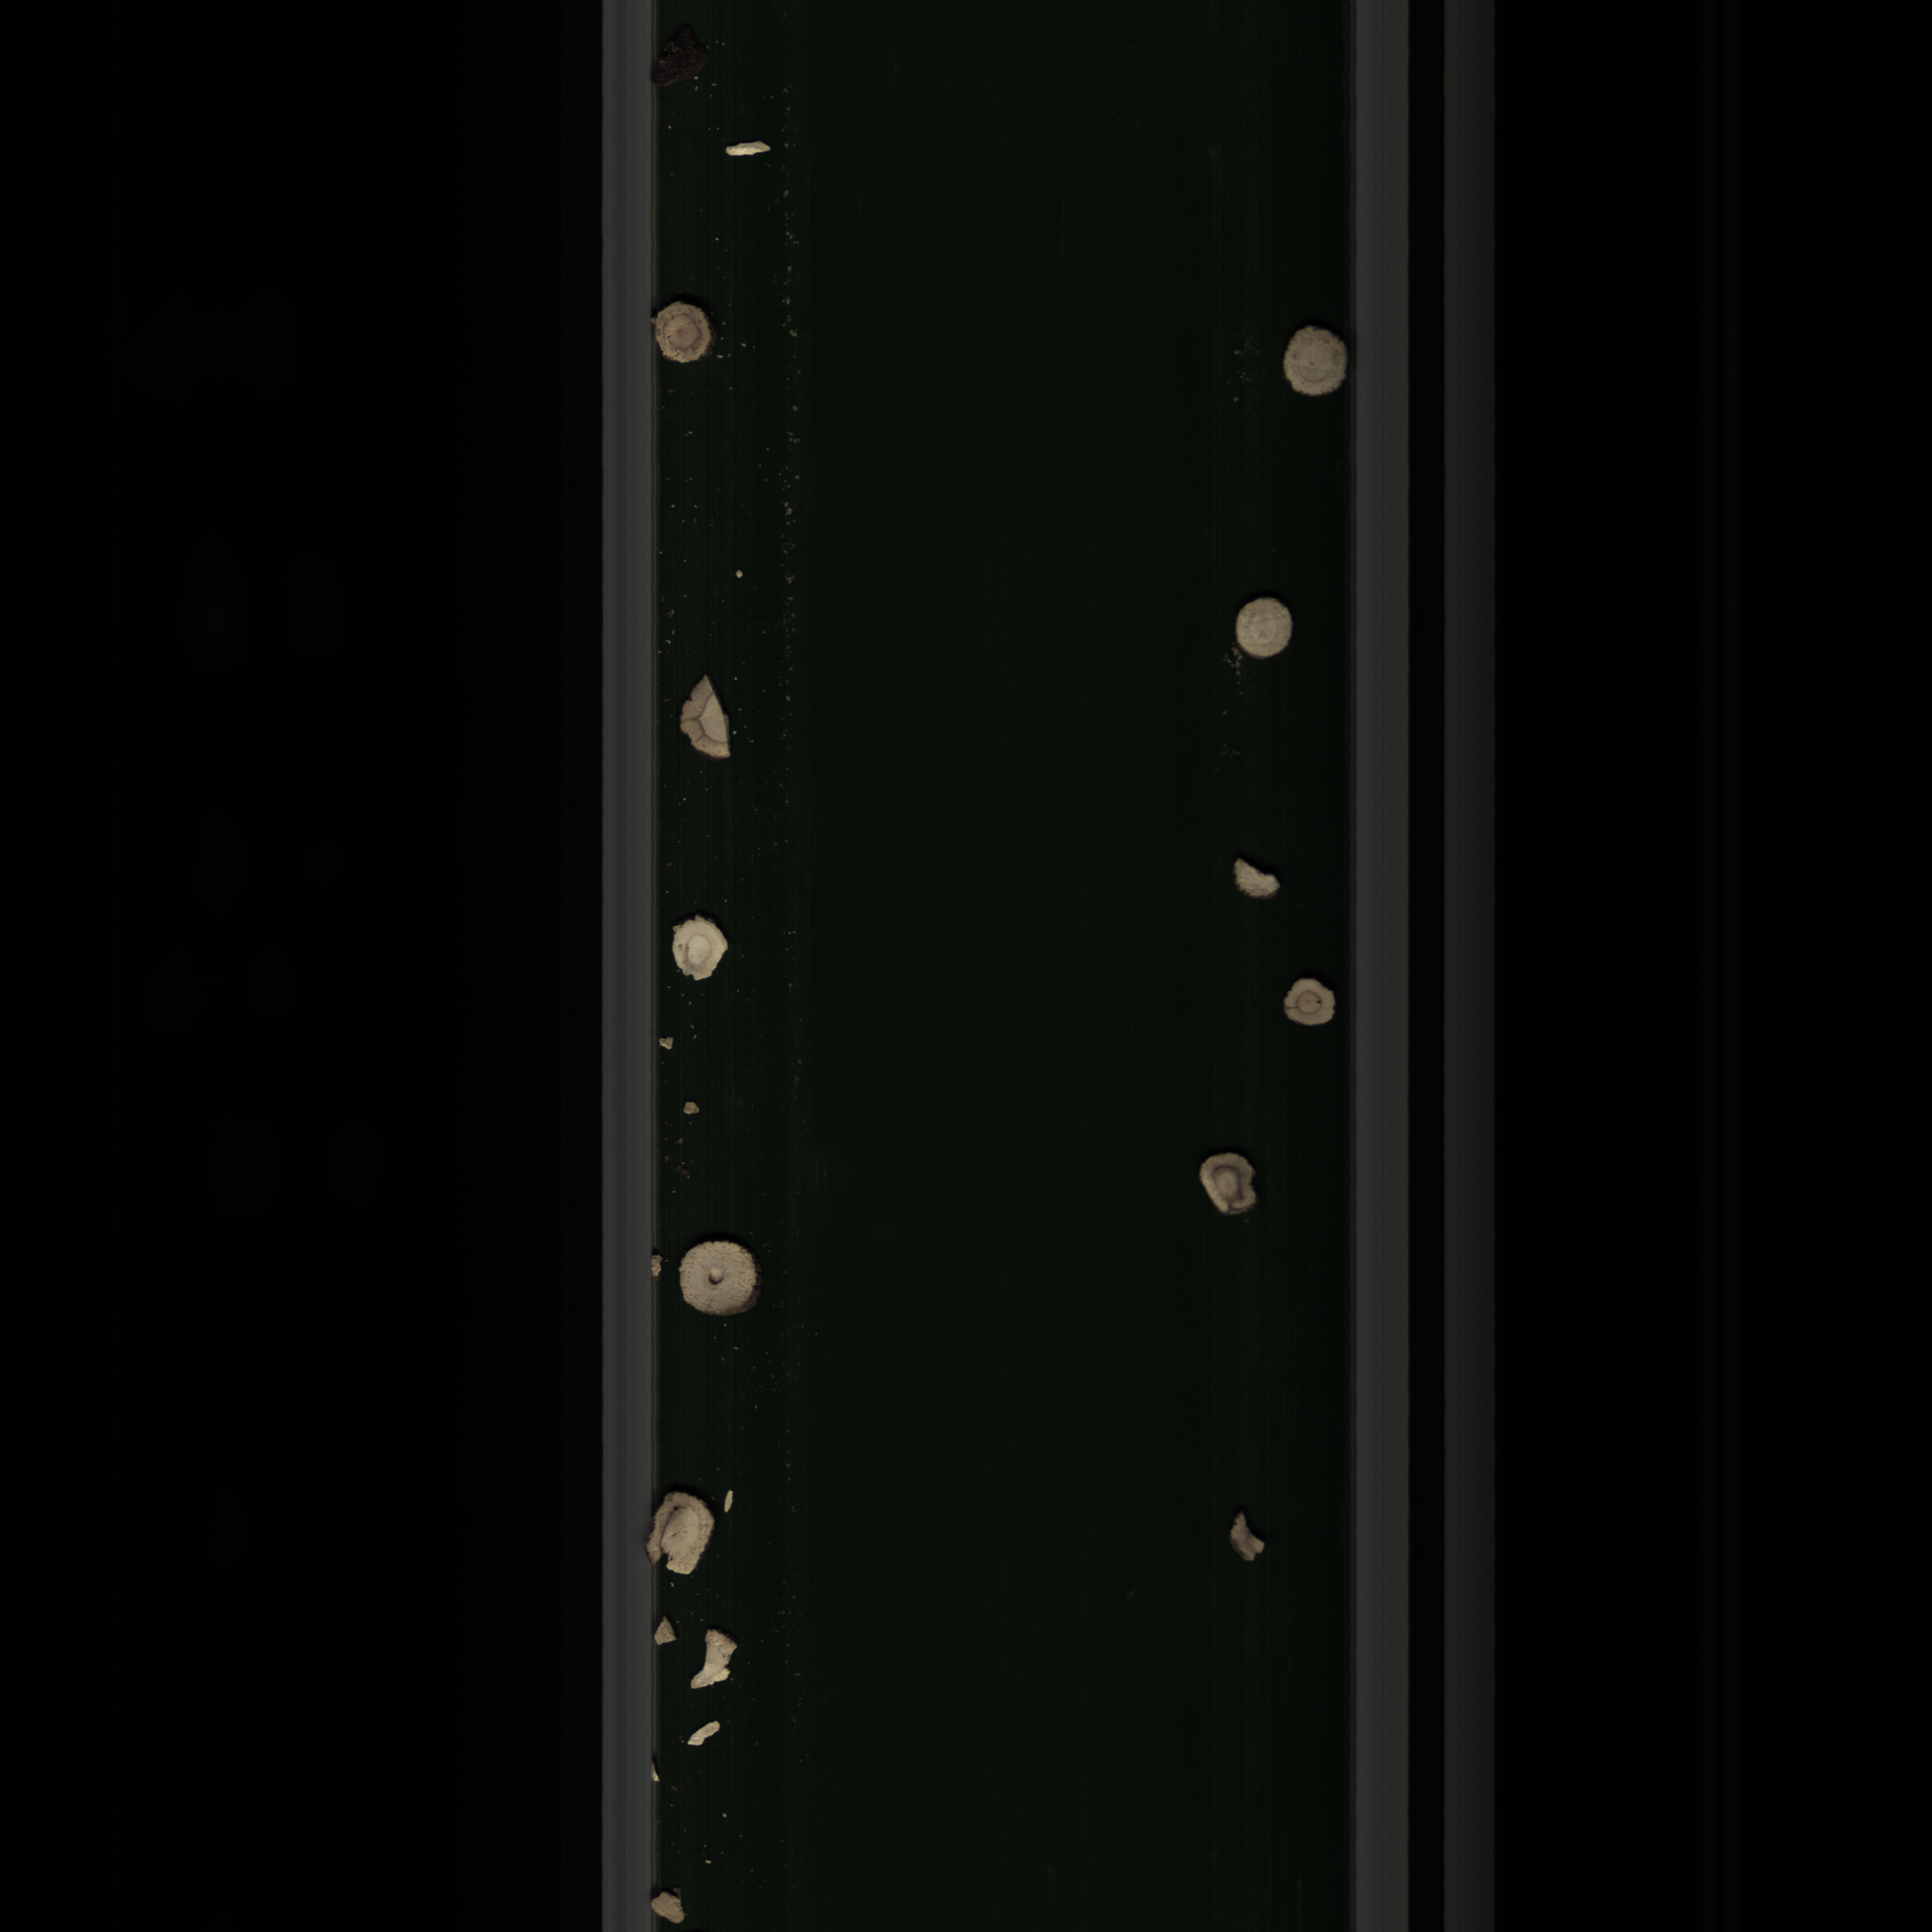bark: (1208, 1495, 1279, 1571)
debris: (640, 1470, 713, 1589), (679, 665, 747, 773), (683, 1622, 754, 1695), (1219, 853, 1293, 901), (649, 1886, 697, 1930), (683, 1711, 738, 1743)
hole: (672, 1230, 770, 1322)
moldy: (1189, 1139, 1263, 1230), (648, 294, 717, 373), (1281, 971, 1345, 1031)
